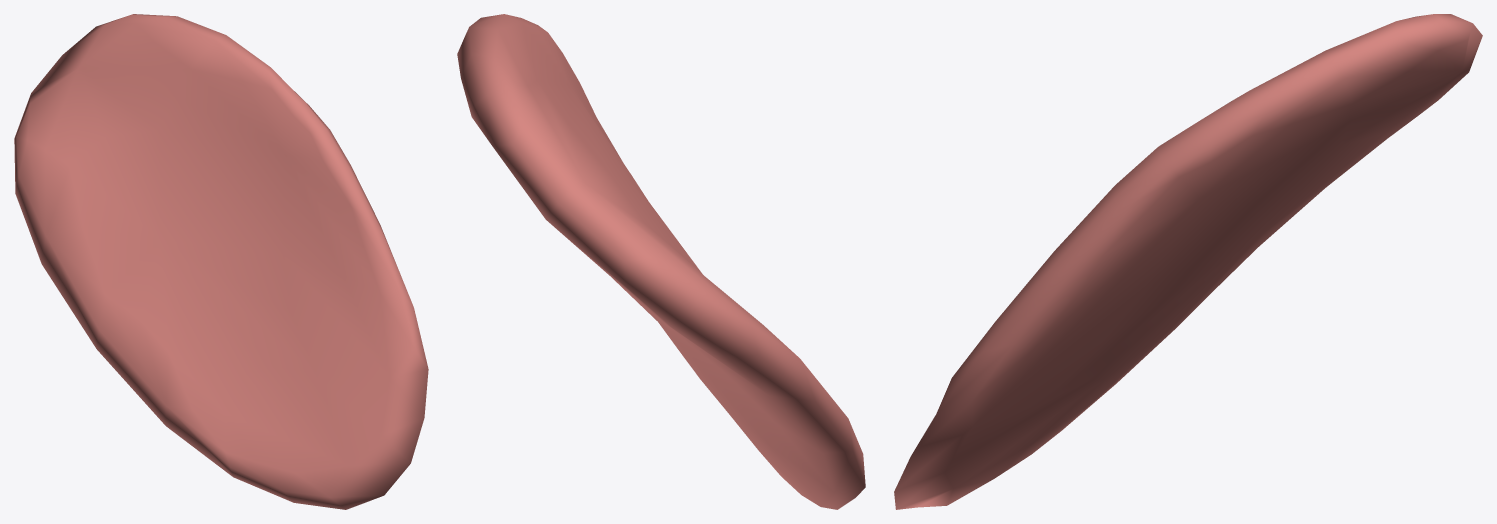
The picture shows the model from 3 angles, left to right: view 1: azimuth 30°, elevation 25°; view 2: azimuth 150°, elevation 25°; view 3: azimuth 270°, elevation 25°; orthographic projection. The views are drawn at different scales.
Parts seen in each view (by area): view 1: ZA_0f082706d4406ee3; view 2: ZA_0f082706d4406ee3; view 3: ZA_0f082706d4406ee3.
Boxes of the visible parts, x1,y1,x2,y2 form: ZA_0f082706d4406ee3: (14, 14, 428, 509); ZA_0f082706d4406ee3: (457, 14, 865, 509); ZA_0f082706d4406ee3: (894, 14, 1482, 509).
Size of the model in its own units: 0.00397 by 0.00543 by 0.00598.
